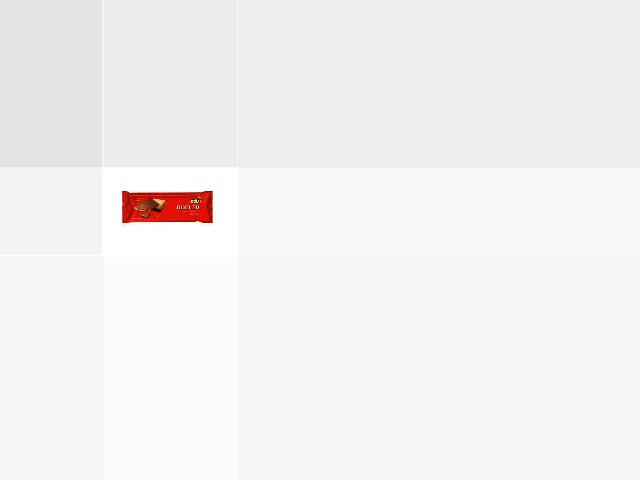chocolate: (122, 191, 216, 224)
